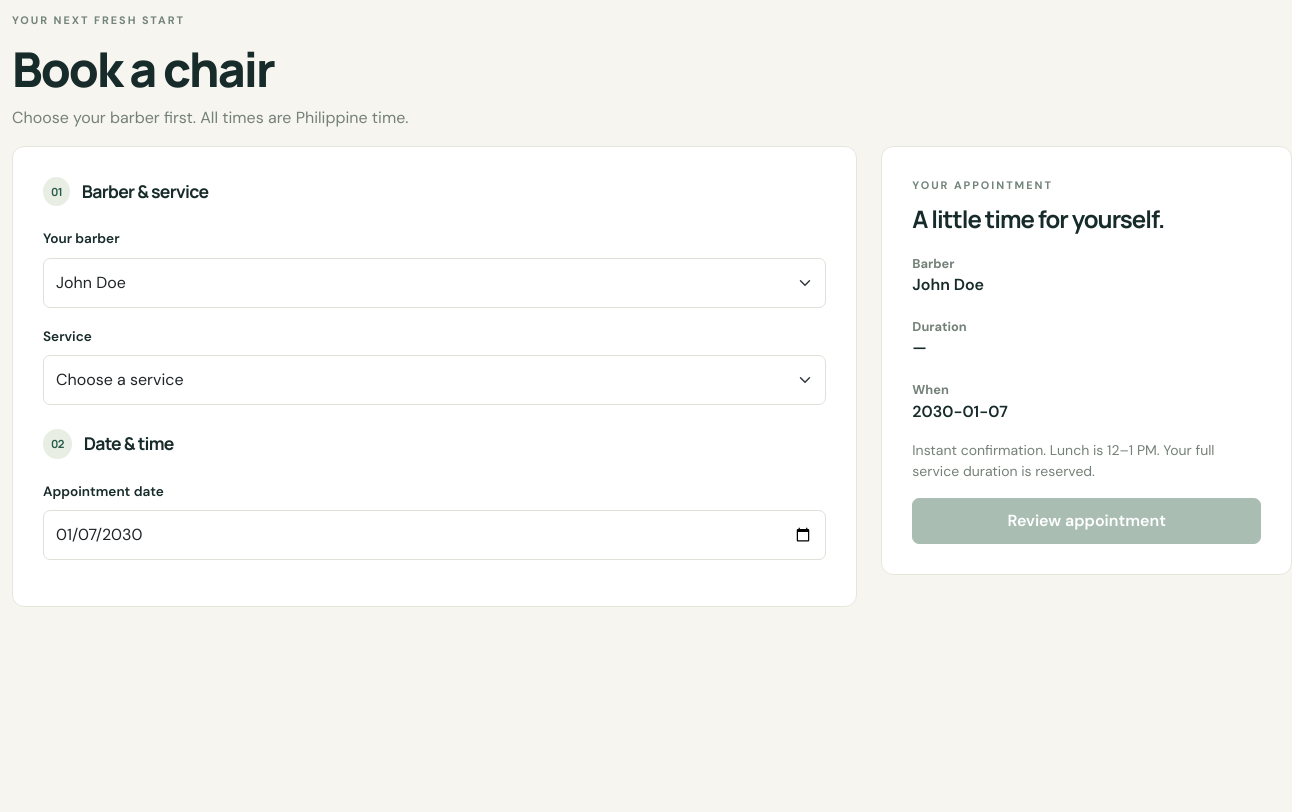
Test case: customer and barber flows › failed booking shows conflict without successful navigation
The image size is (1292, 812).
Select "Haircut · 30 minutes" in the dropdown labelled "Service": (435, 380) left=43, top=355, right=826, bottom=405
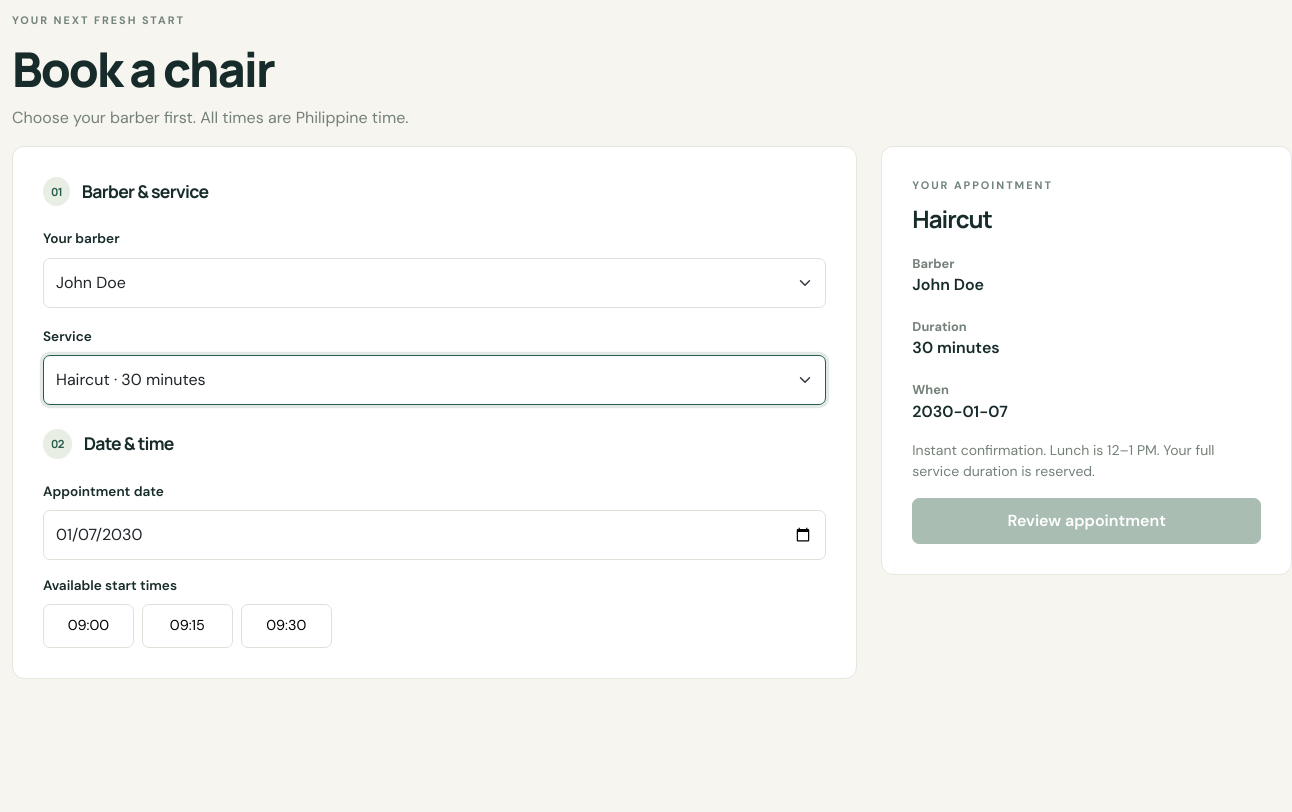
Click the button "09:00": (88, 626) left=43, top=604, right=134, bottom=648
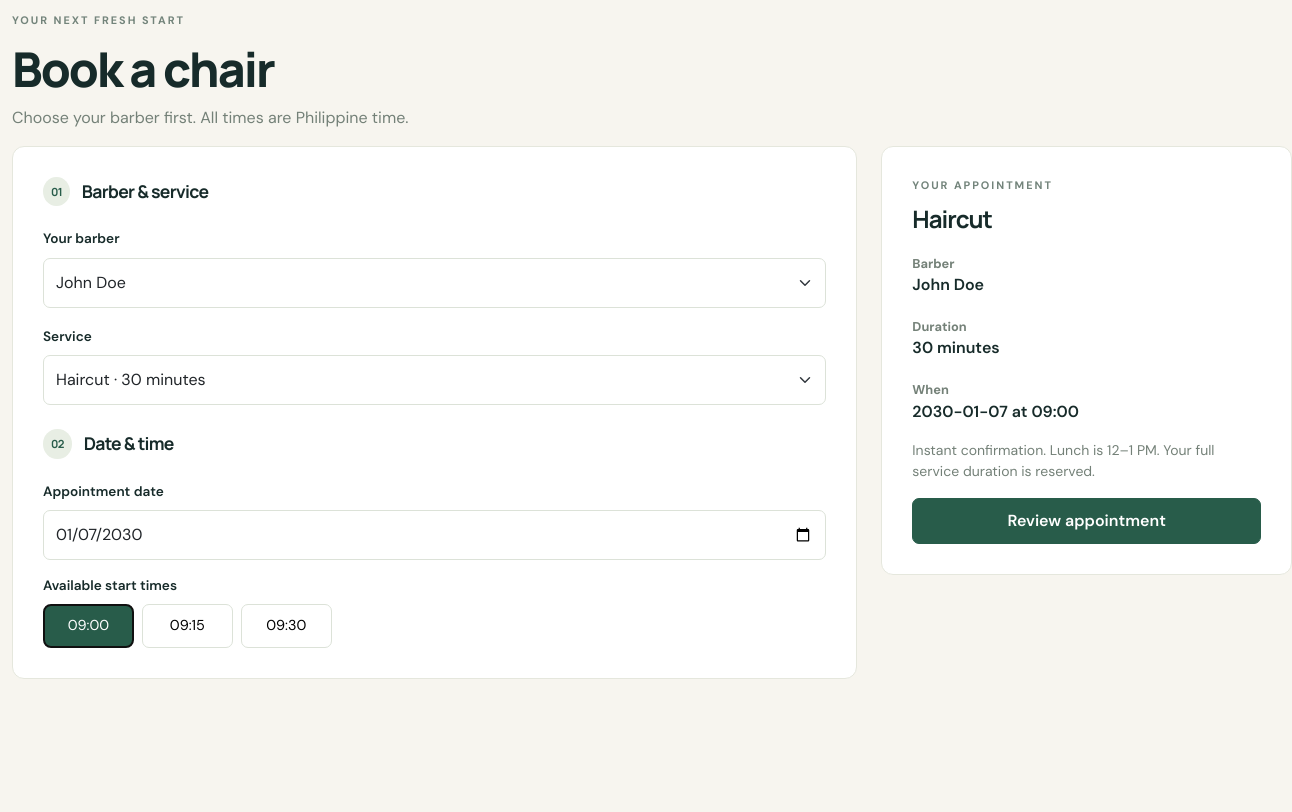
Click the button "Review appointment": (1087, 521) left=912, top=498, right=1261, bottom=544
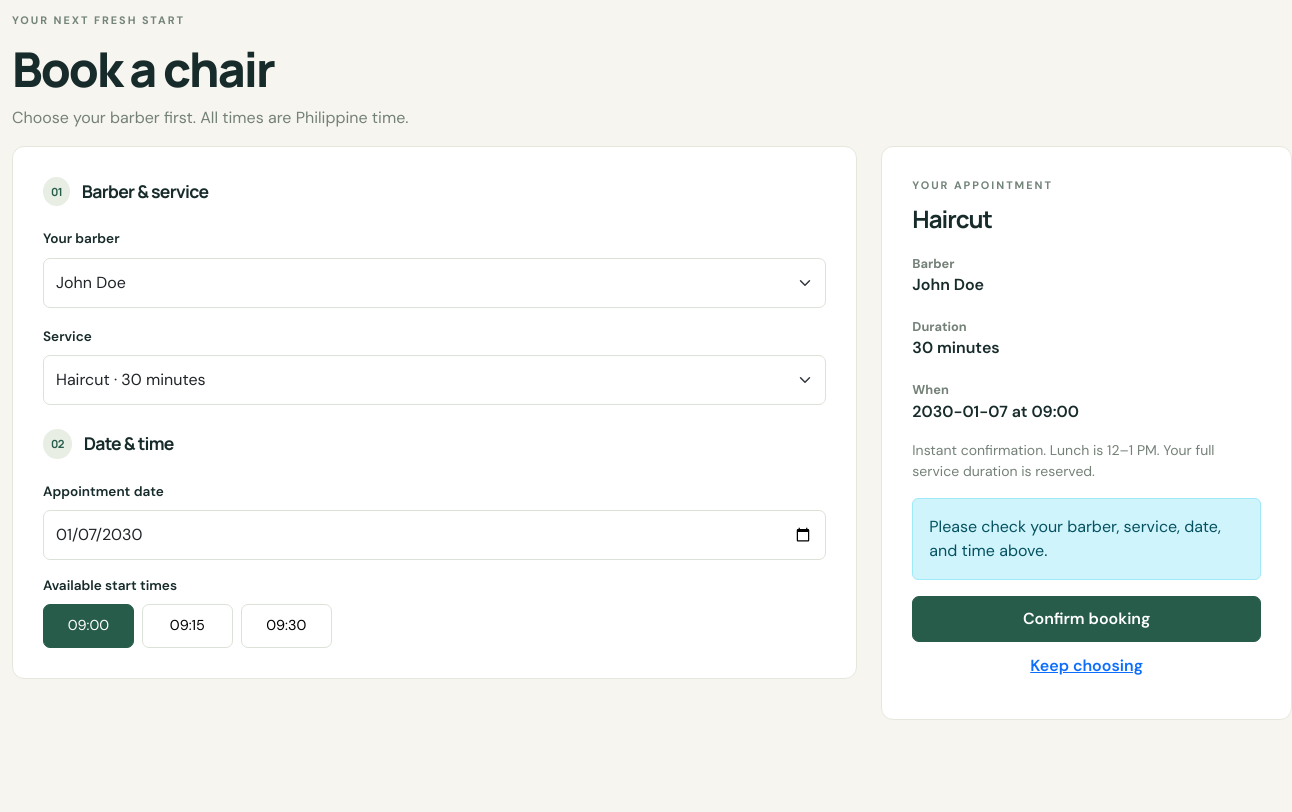
Click the button "Confirm booking": (1087, 619) left=912, top=596, right=1261, bottom=642
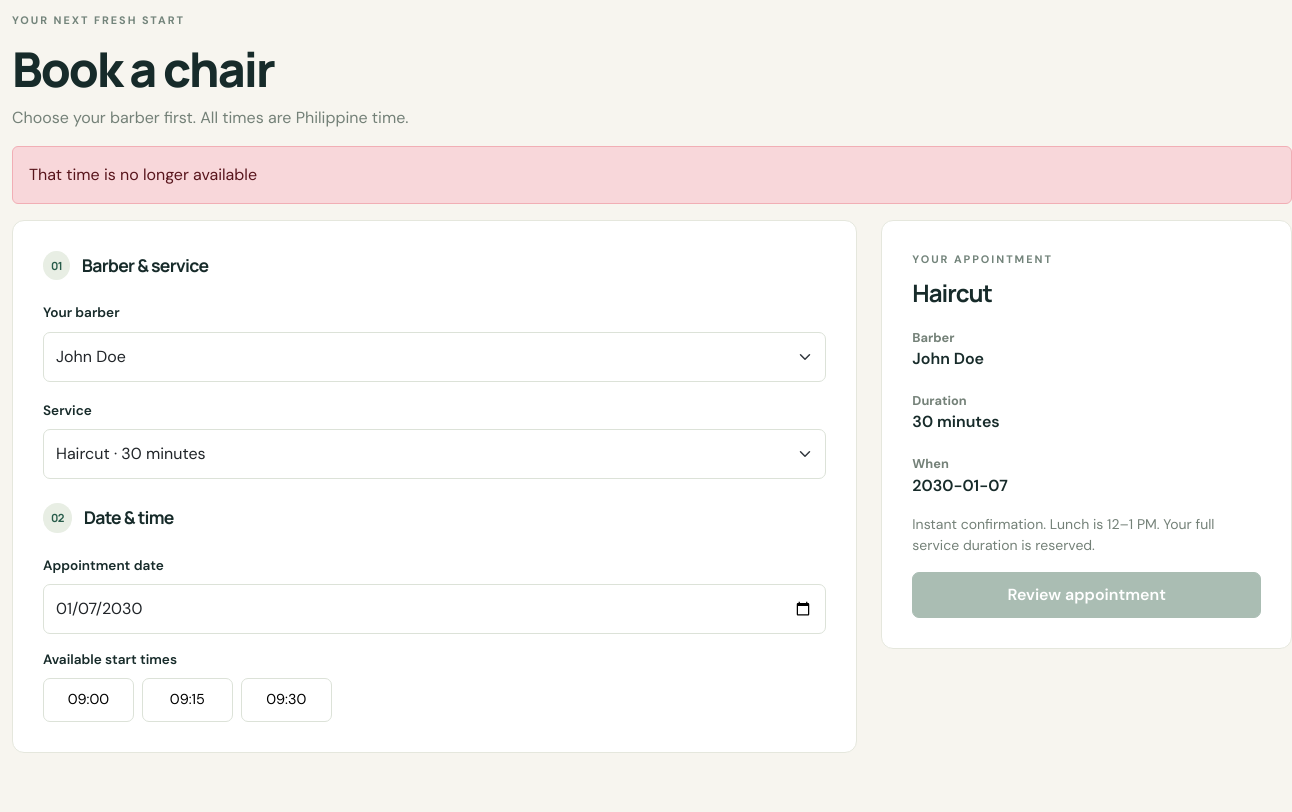
Now the message "That time is no longer available" is shown, box left=12, top=146, right=1291, bottom=204
